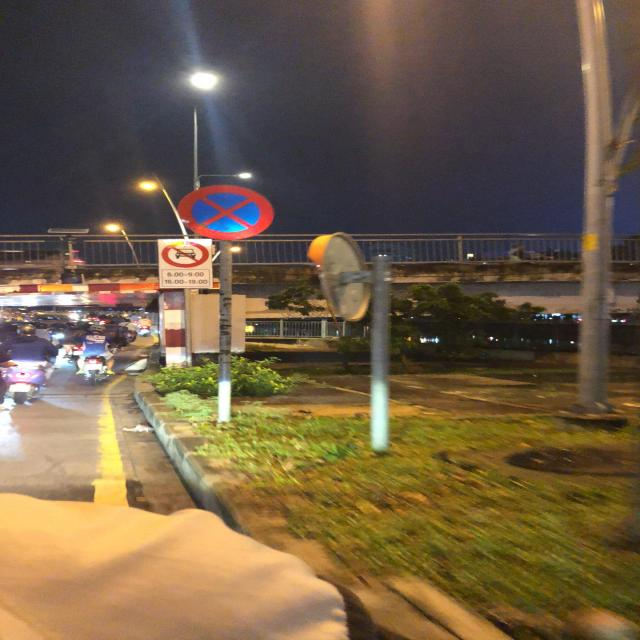Bien bao cam dung xe va do xe: (175, 185, 282, 240)
Bien bao cam xe oto: (158, 240, 211, 268)
